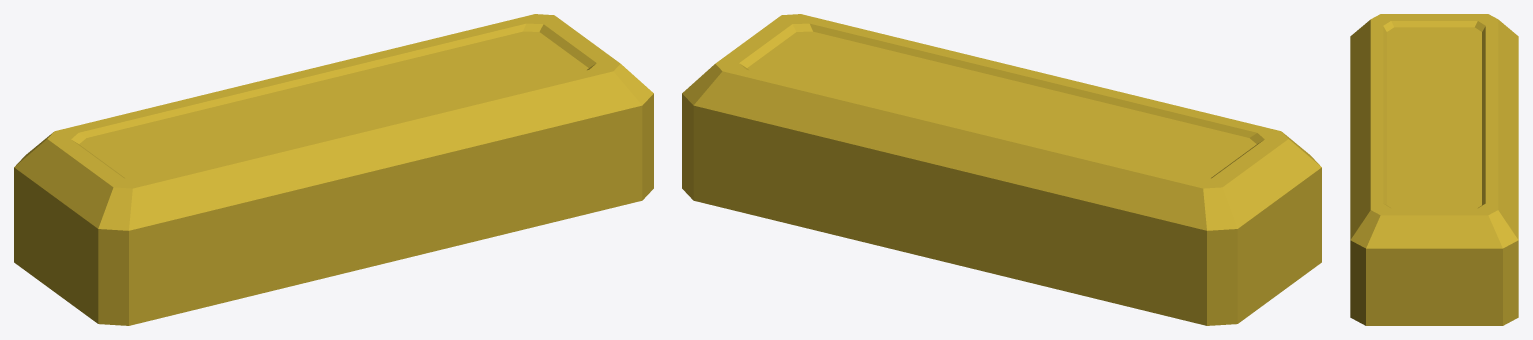
File: GoldIngotB.fbx
The picture shows the model from 3 angles, left to right: view 1: azimuth 30°, elevation 25°; view 2: azimuth 150°, elevation 25°; view 3: azimuth 270°, elevation 25°; orthographic projection. The views are drawn at different scales.
Parts seen in each view (by area): view 1: GoldIngotB; view 2: GoldIngotB; view 3: GoldIngotB.
Part boxes in pixels (<box>): GoldIngotB: <box>14,14,653,325</box>; GoldIngotB: <box>682,14,1321,325</box>; GoldIngotB: <box>1350,14,1518,325</box>.
Bounding box in the file's own units: 61.45 × 13.13 × 19.8.
